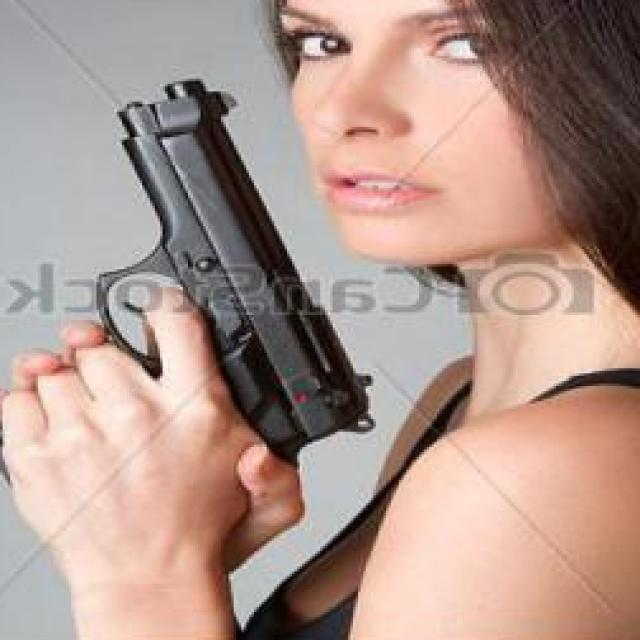pistol: (0, 71, 374, 500)
